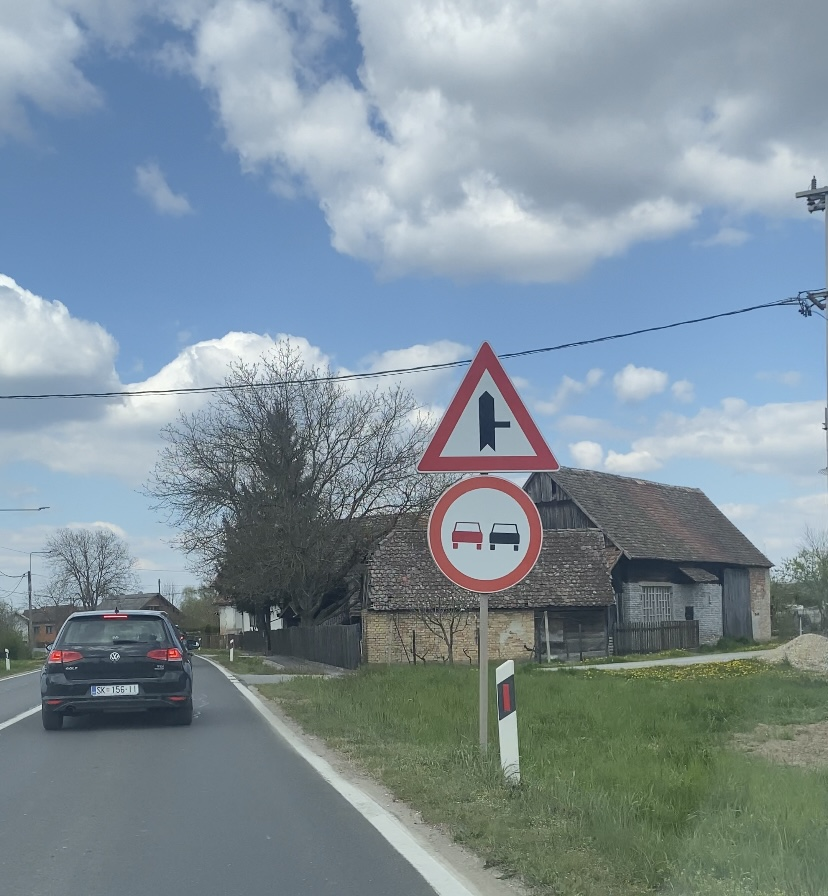Zabrana pretjecanja: (427, 475, 544, 593)
